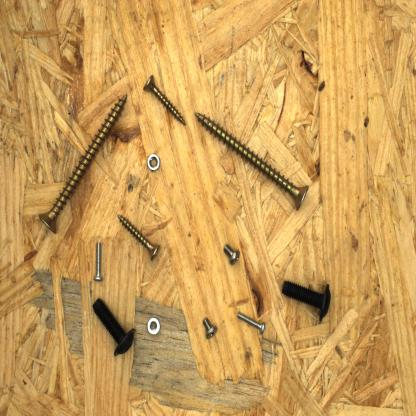screw: (36, 91, 130, 239), (193, 108, 314, 215), (89, 294, 140, 360), (113, 210, 165, 264), (279, 277, 335, 326), (140, 73, 189, 127), (234, 310, 270, 336), (92, 238, 106, 284), (201, 314, 220, 344), (221, 241, 241, 269)
